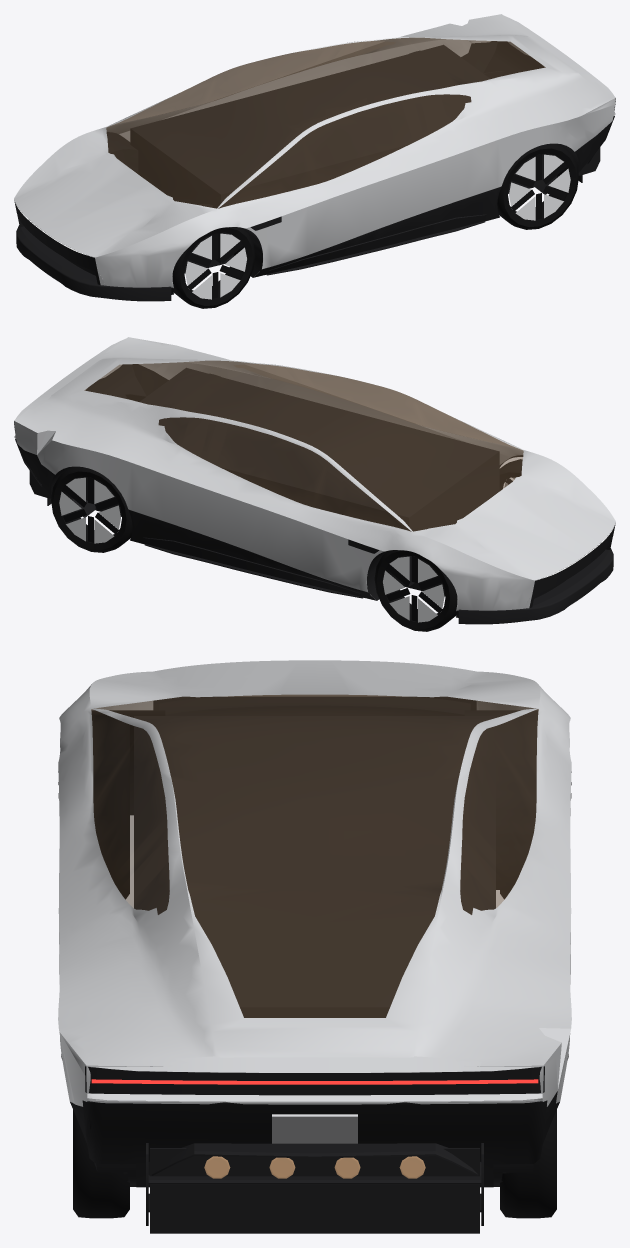
File: car_lod2.glb
3 renders of one model, top to bottom at view 1: azimuth 30°, elevation 25°; view 2: azimuth 150°, elevation 25°; view 3: azimuth 270°, elevation 25°, orthographic. The views are drawn at different scales.
Visible parts, largest first — view 1: Body, Wheels; view 2: Body, Wheels; view 3: Body, Wheels.
Boxes of the visible parts, box(x1,y1,x2,y2) form: Body: box(14, 14, 615, 301); Wheels: box(172, 143, 578, 308); Body: box(14, 337, 615, 624); Wheels: box(51, 459, 522, 631); Body: box(58, 660, 571, 1233); Wheels: box(73, 715, 556, 1218).
Size of the model in its own units: 5.01 by 1.34 by 2.13.
